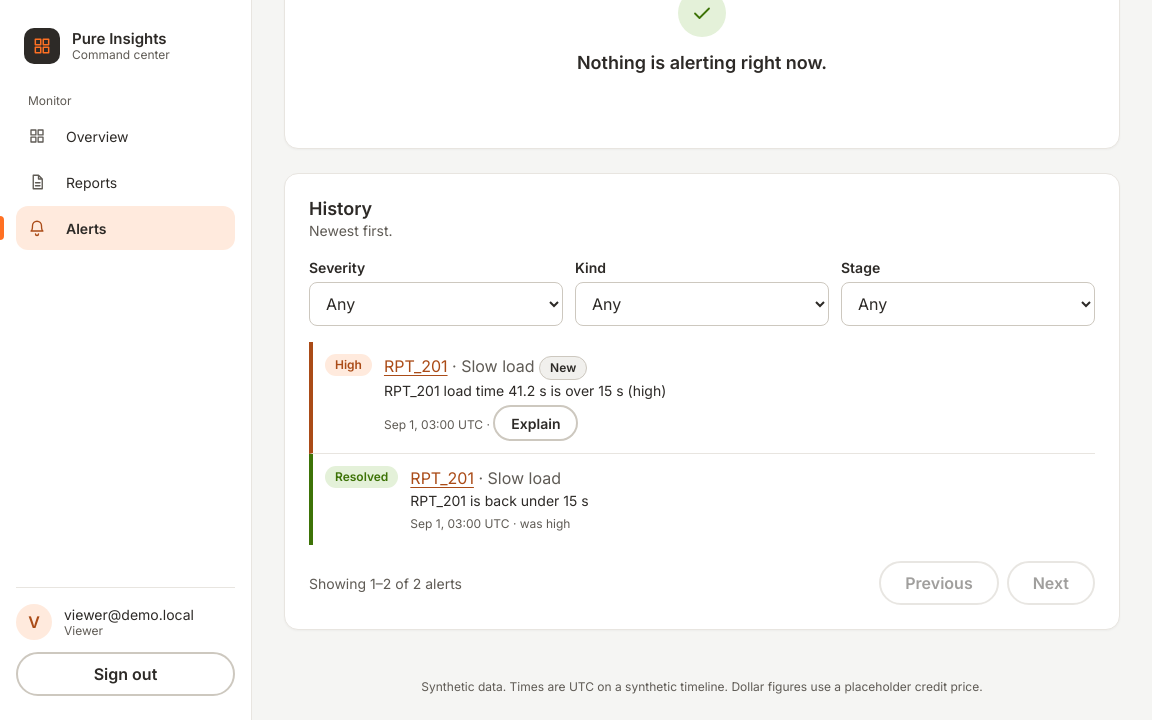
Test: Explain this alert › loads only when opened, shows the suggestion with the evidence behind every claim, and says it is not automatic
(page scrolled)
Expected: the list named "Alert history" is shown, [309,342,1095,545]
Click the button with aria-label "Explain alert 1": (536, 423) [493,405,578,441]
(page scrolled)
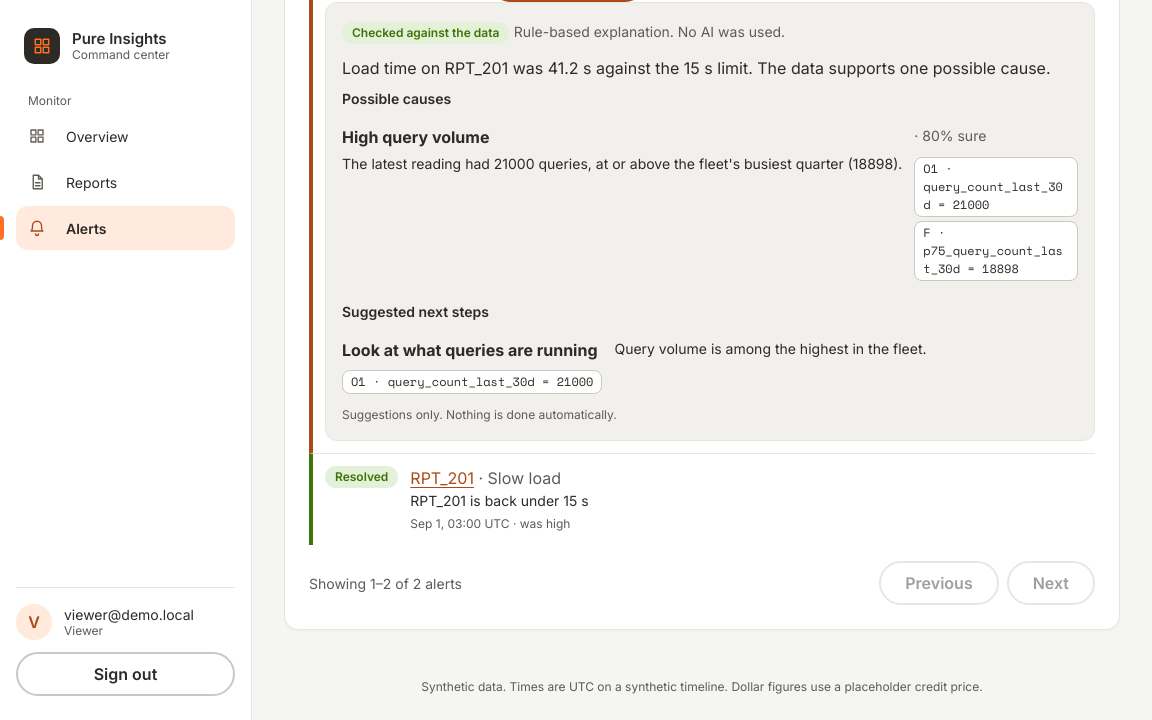
Now the text "Checked against the data" is shown, box [342,22,509,44]
Now the text "Rule-based explanation. No AI was used." is shown, box [514,23,785,40]
Now the text "High query volume" is shown, box [342,127,490,147]
